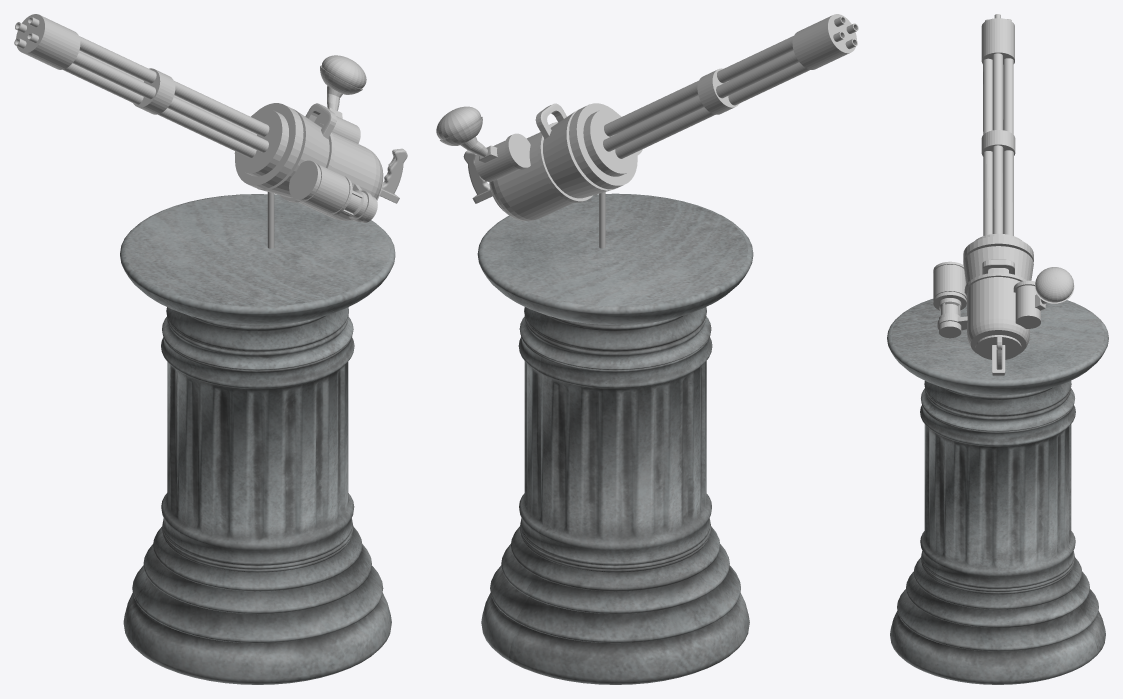
The model's file is PeaShooterPedestal.fbx.
3 views of the same model, side by side, from view 1: azimuth 30°, elevation 25°; view 2: azimuth 150°, elevation 25°; view 3: azimuth 270°, elevation 25° (orthographic). The views are drawn at different scales.
Parts seen in each view (by area): view 1: Cylinder.005, Plane.003_Plane.007; view 2: Cylinder.005, Plane.003_Plane.007; view 3: Cylinder.005, Plane.003_Plane.007.
Boxes of the visible parts, x1,y1,x2,y2 form: Cylinder.005: (120,194,395,684); Plane.003_Plane.007: (14,14,407,248); Cylinder.005: (477,193,753,684); Plane.003_Plane.007: (436,14,858,248); Cylinder.005: (887,299,1108,684); Plane.003_Plane.007: (933,14,1074,375).
Bounding box in the file's own units: 363 × 593 × 221.
